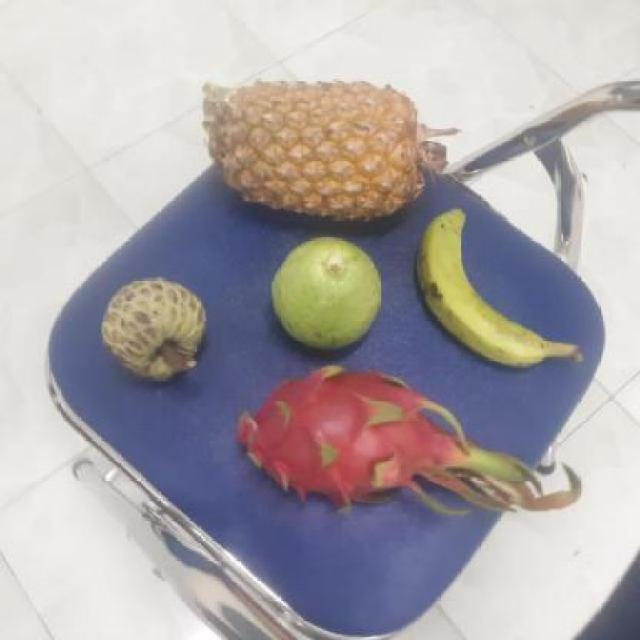banana: (407, 210, 556, 370)
dragon fruit: (226, 366, 462, 511)
guava: (268, 235, 382, 352)
pineapple: (206, 80, 426, 226)
sugar apple: (94, 277, 204, 381)
